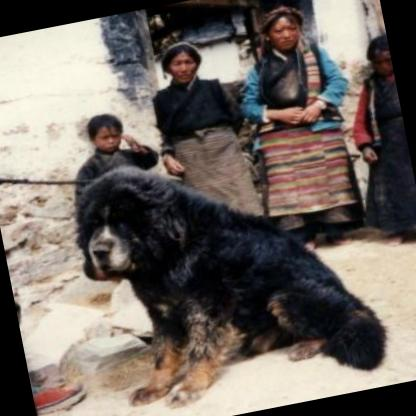Tibetan_mastiff: (60, 119, 391, 416)
